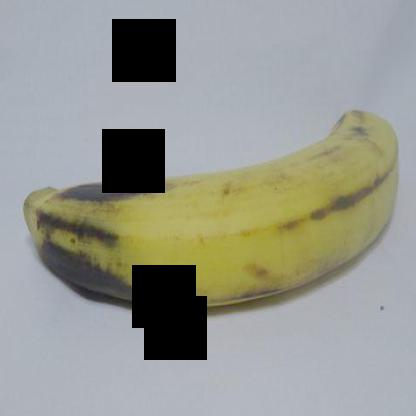ripe: (18, 82, 407, 327)
